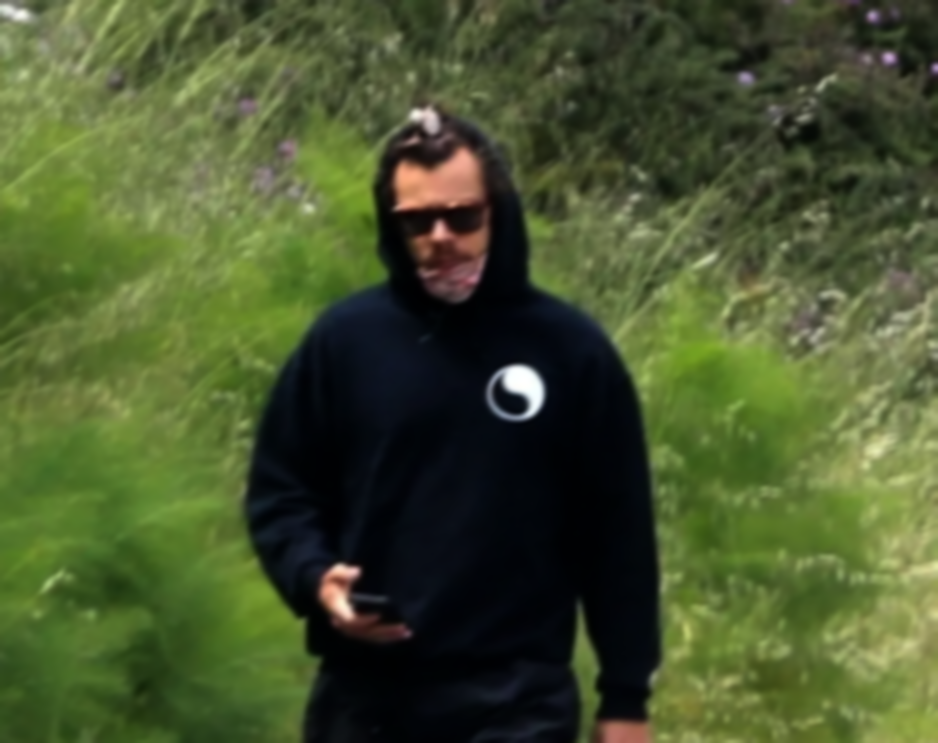mask_weared_incorrect: (375, 126, 512, 312)
